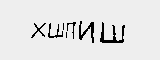Е: (38, 21, 50, 36)
М: (98, 16, 127, 38), (128, 16, 151, 33)
Х: (50, 19, 66, 38)
Ю: (13, 22, 39, 39)
Ә: (65, 17, 94, 39)
